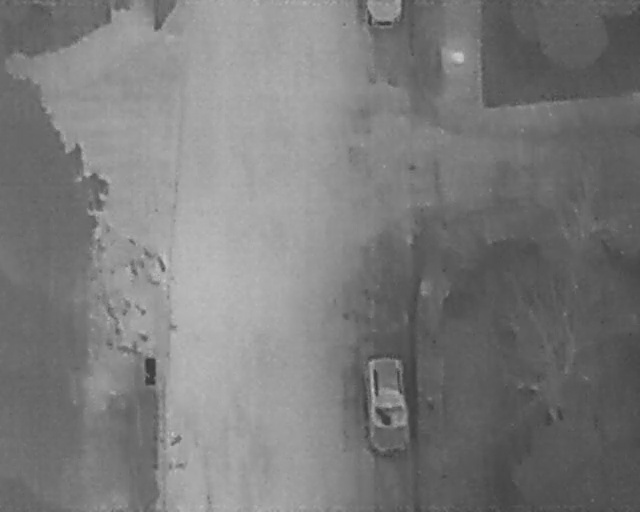Car: (360, 351, 414, 457), (363, 0, 403, 28)
